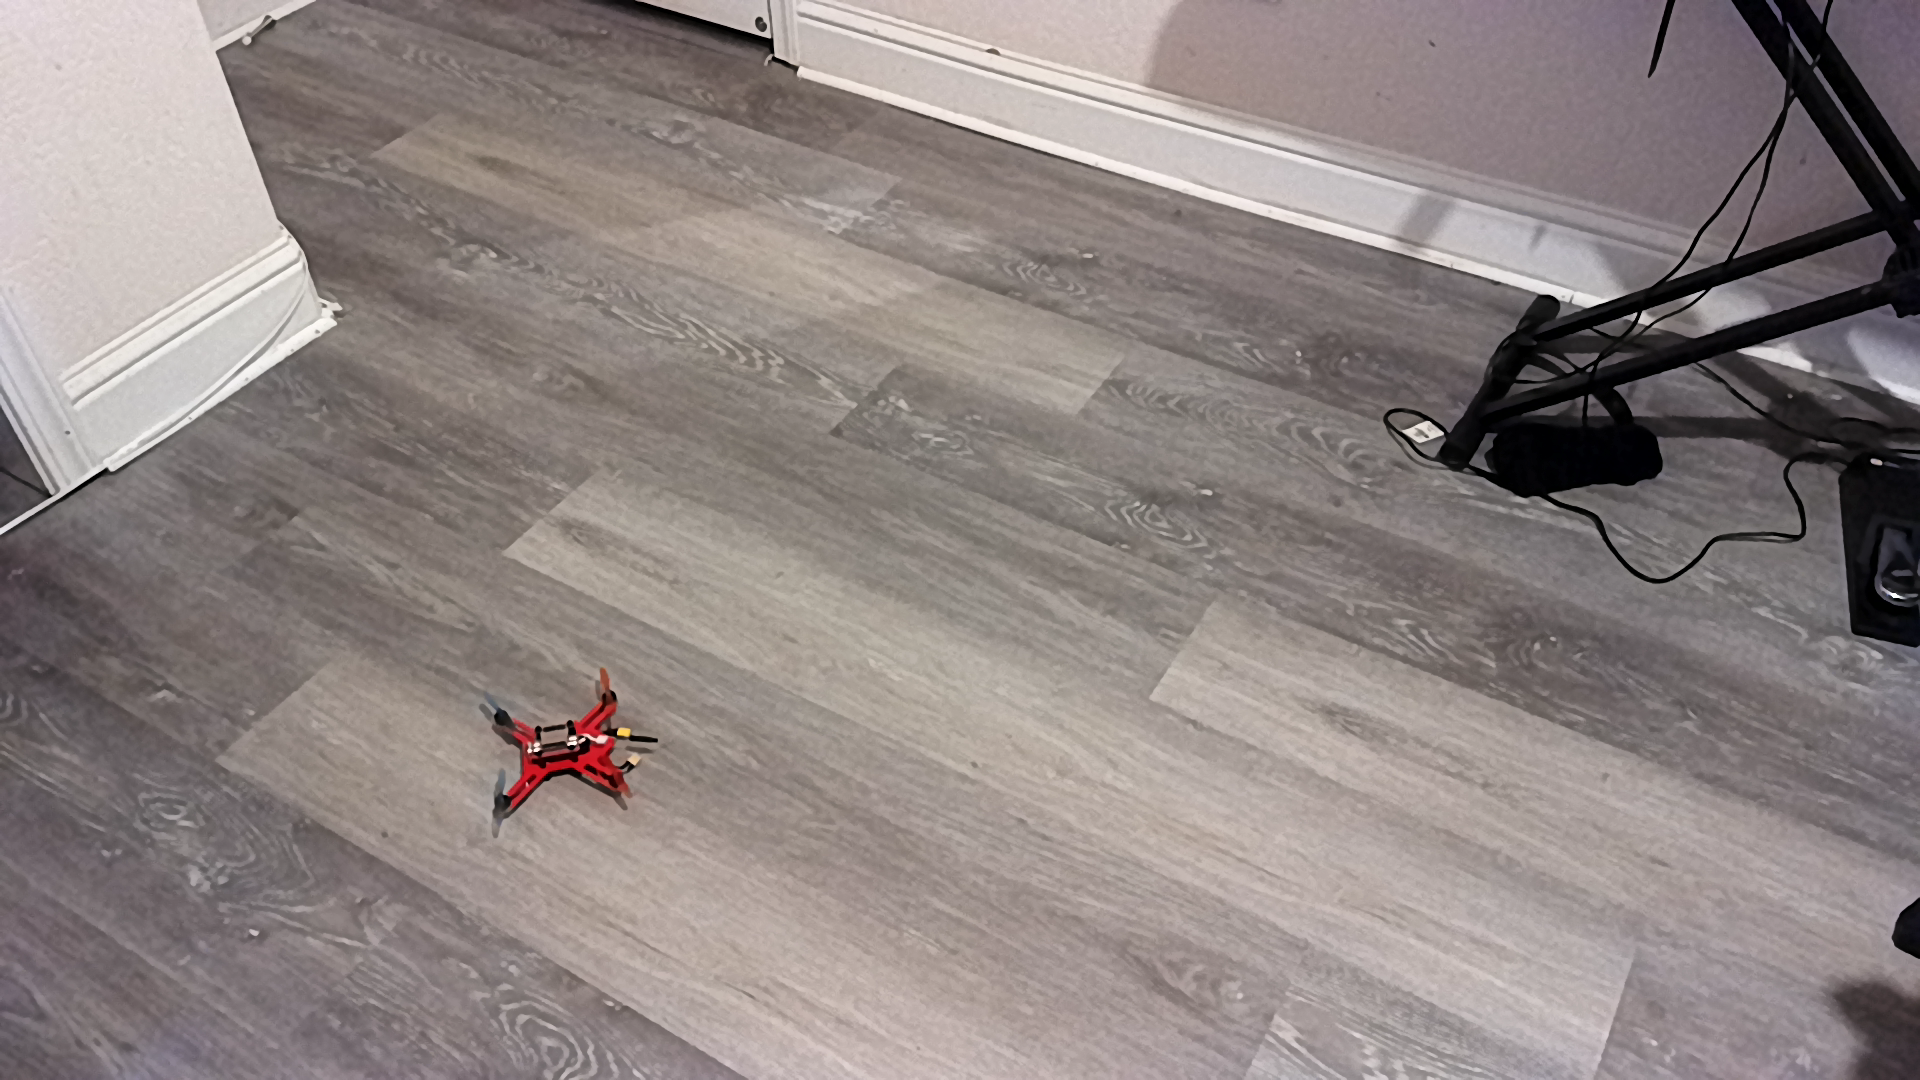drone: (460, 665, 688, 837)
